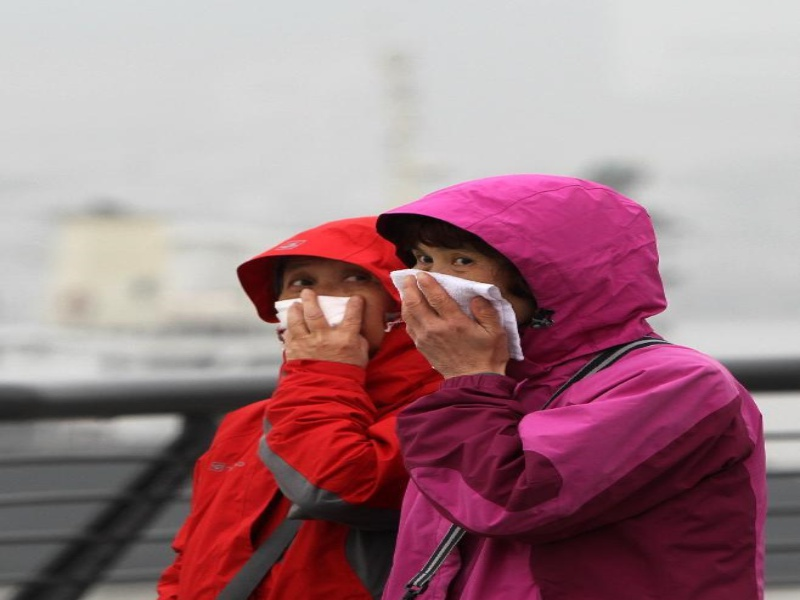mask: (393, 188, 590, 354), (244, 227, 403, 362)
